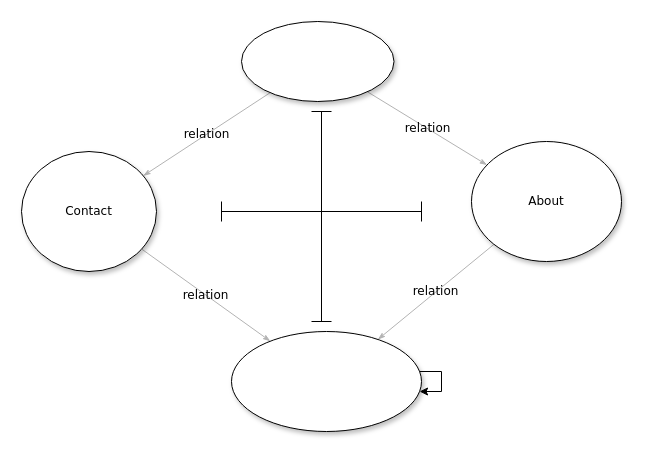
This 645x456 diagram has some shape labels left out. Here are the shapes that lost their labels. From the top down, the centre of each, then its label:
At (x=318, y=62): "Homepage".
At (x=327, y=382): "Gallery".
